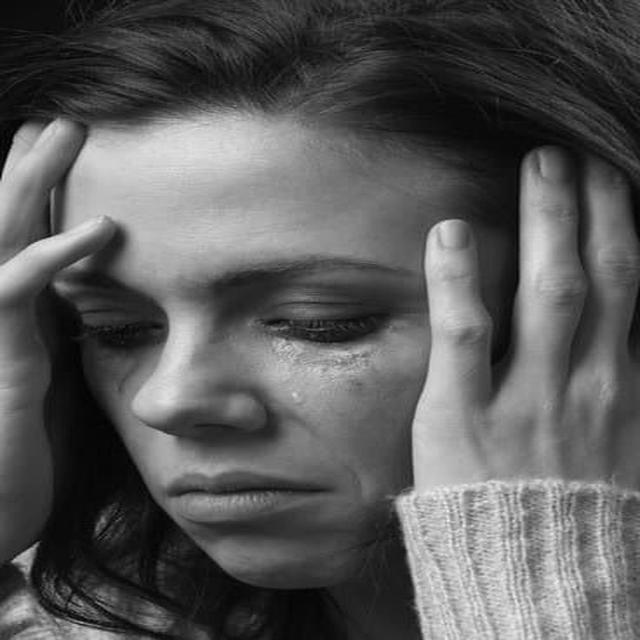Sadness: (55, 123, 451, 588)
